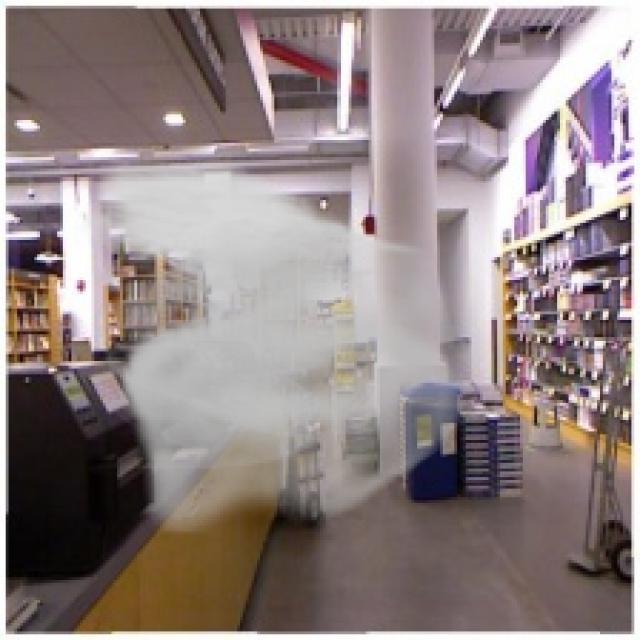smoke: (74, 155, 477, 534)
